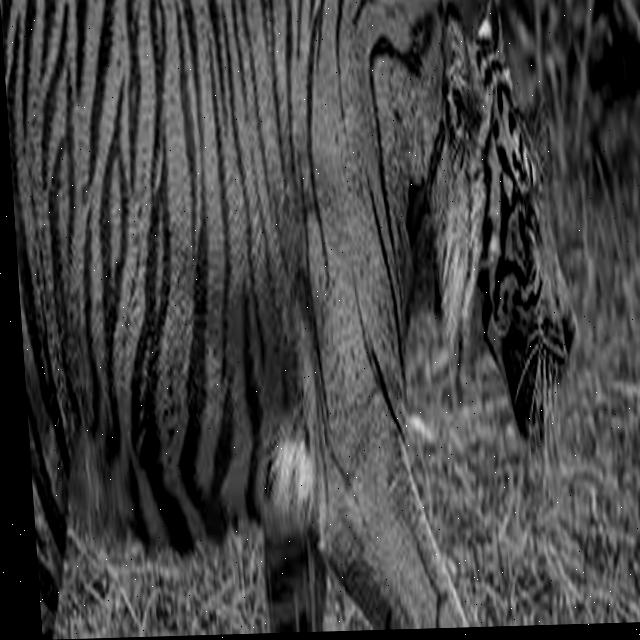Tiger: (0, 0, 599, 639)
